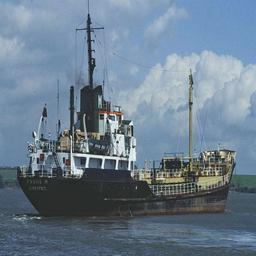Ship: (15, 65, 239, 219)
